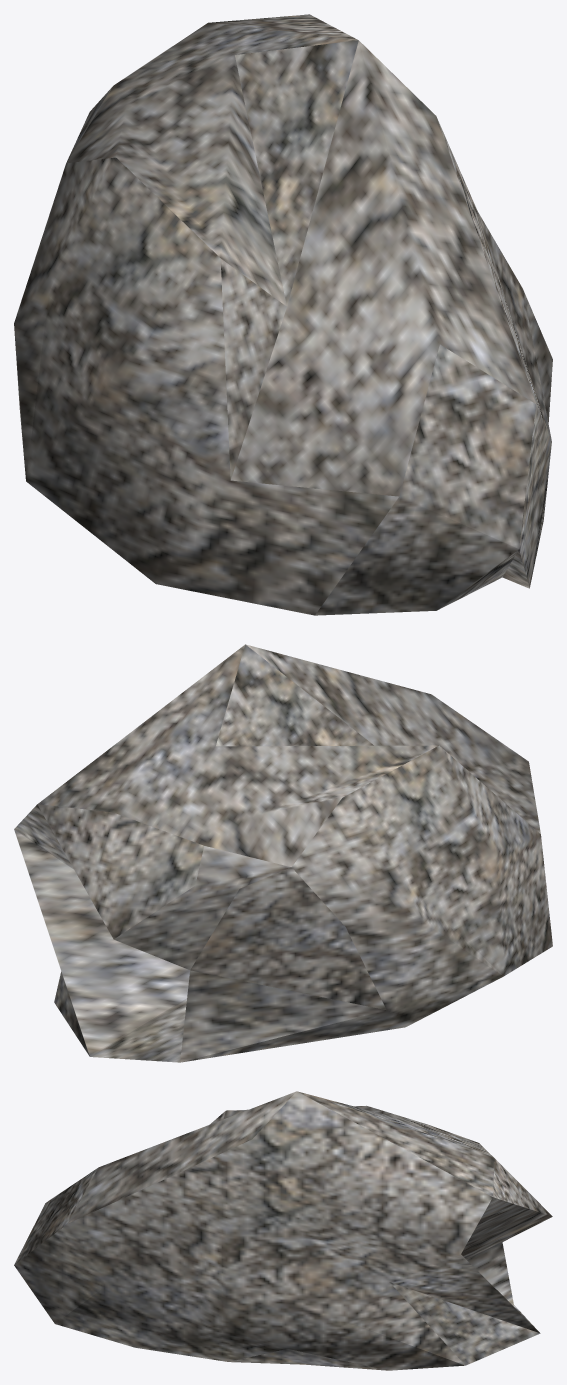
The model's file is rock.obj.
3 renders of one model, top to bottom at view 1: azimuth 30°, elevation 25°; view 2: azimuth 150°, elevation 25°; view 3: azimuth 270°, elevation 25°, orthographic. The views are drawn at different scales.
Visible parts, largest first — view 1: SphereUV.obj; view 2: SphereUV.obj, Vertex_Object; view 3: SphereUV.obj, Vertex_Object.
Boxes of the visible parts, <box> form: SphereUV.obj: <box>14,14,552,615</box>; SphereUV.obj: <box>37,644,552,1062</box>; Vertex_Object: <box>14,804,203,1062</box>; SphereUV.obj: <box>14,1091,540,1370</box>; Vertex_Object: <box>461,1158,552,1331</box>.
Size of the model in its own units: 26.36 by 19.75 by 40.03.
Materials: 1 (1 with a texture image).
